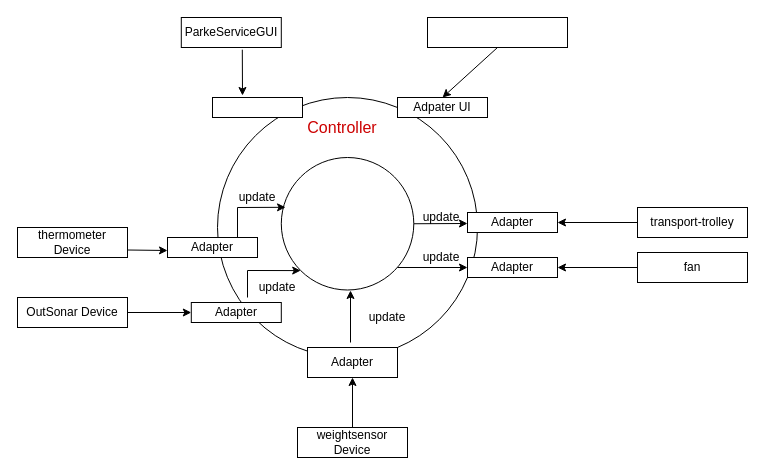
Image size: 765x475. Some labels were removed from this diagram. Each missing label, with the centre of its shape:
Adapter UI: (257,107)
Outsonar, transport-trolley, weightsensor, thermometer, fan: (347,223)
ParkeServiceStatusGUI: (497,32)
